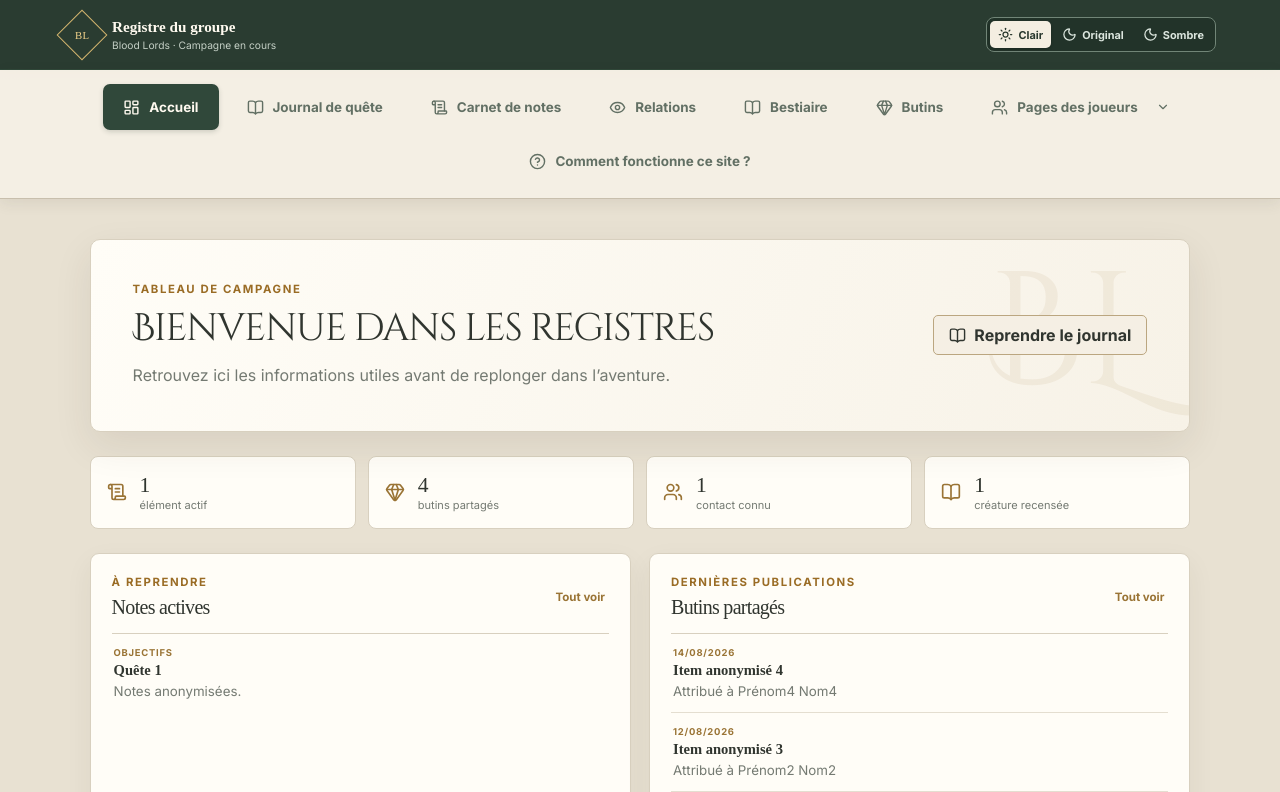
Test case: affiche les raccourcis du journal sous le navigateur
The width and height of the screenshot is (1280, 792).
Click the button "Journal de quête".
click(315, 107)  # box [226, 84, 403, 130]
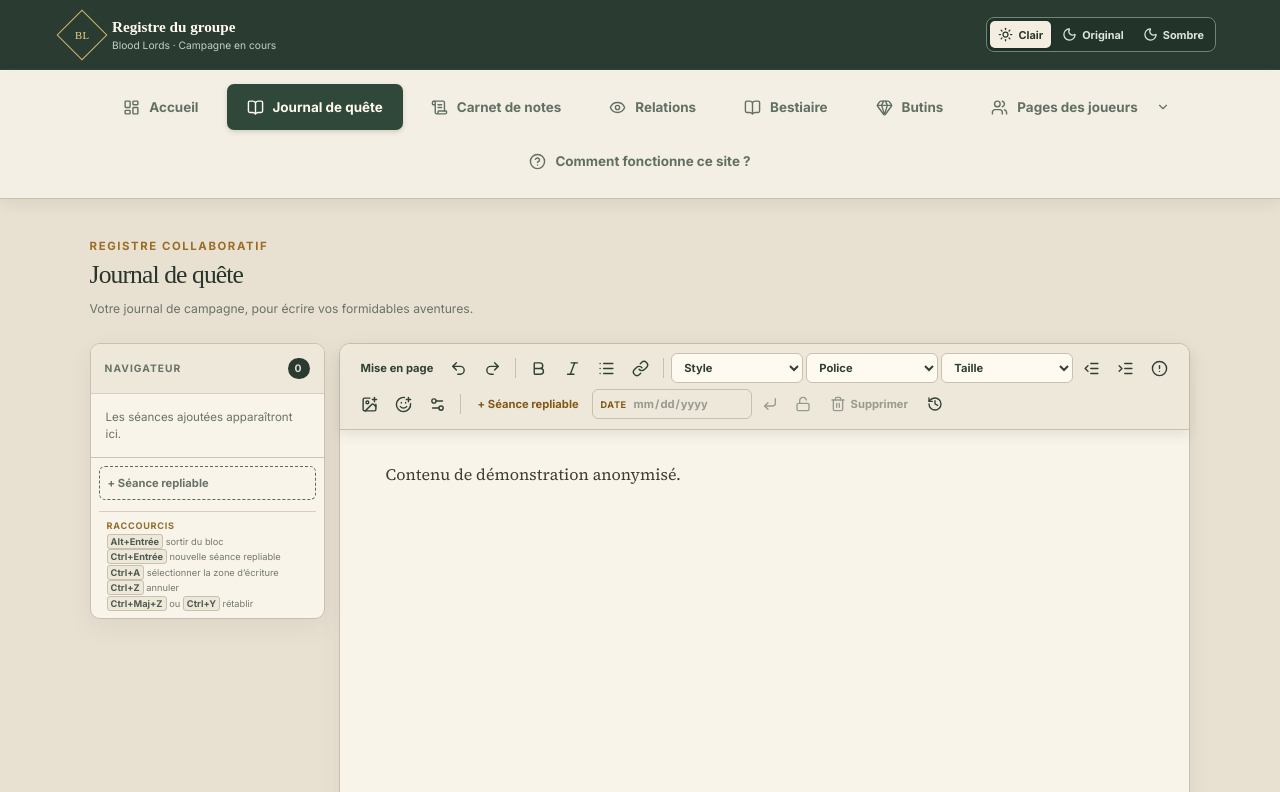
Now the element with class "journal-shortcuts" shows "Alt+Entrée", box [111, 536, 159, 546]
Now the element with class "journal-shortcuts" shows "Ctrl+Entrée", box [111, 551, 163, 562]
Now the element with class "journal-shortcuts" shows "Ctrl+Maj+Z", box [111, 598, 162, 609]
